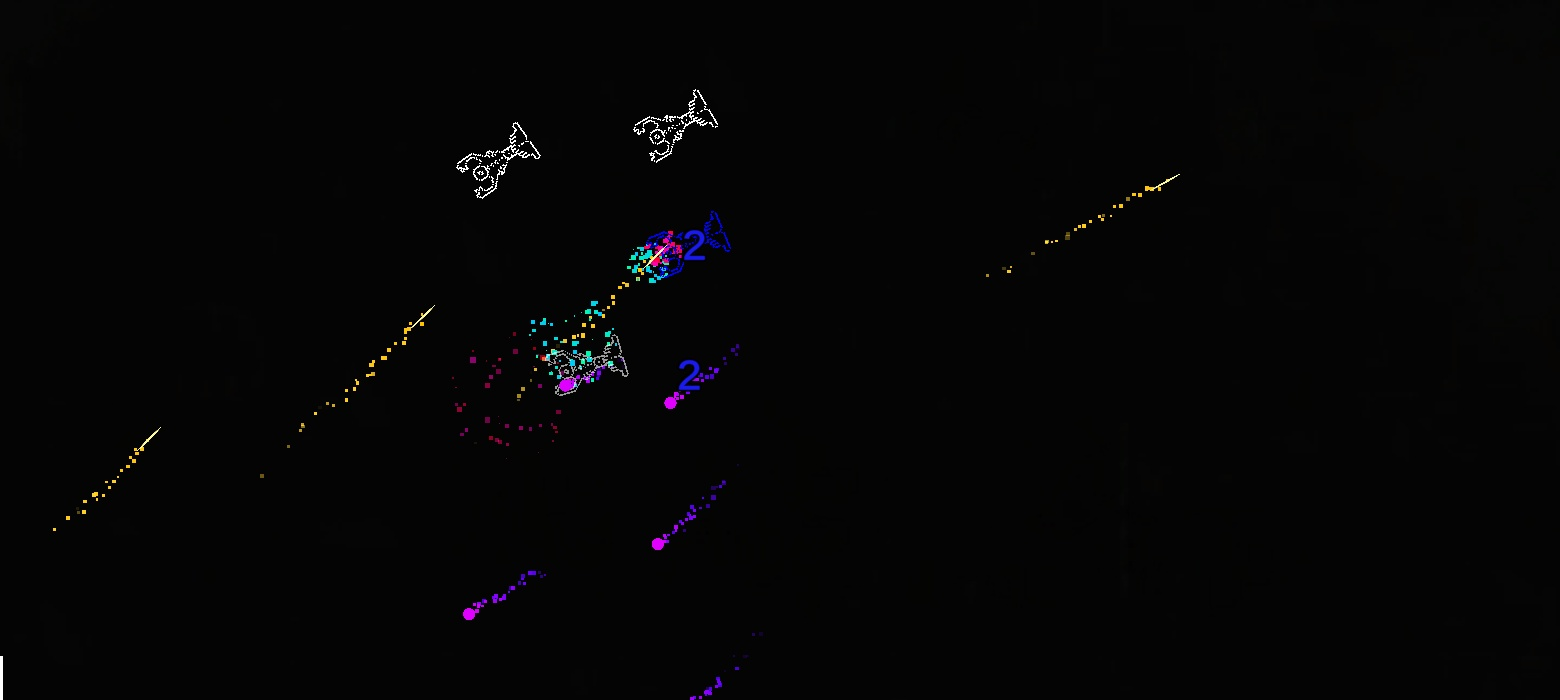enemy: (455, 122, 541, 200), (632, 89, 718, 163), (646, 210, 731, 278), (546, 334, 629, 395)
